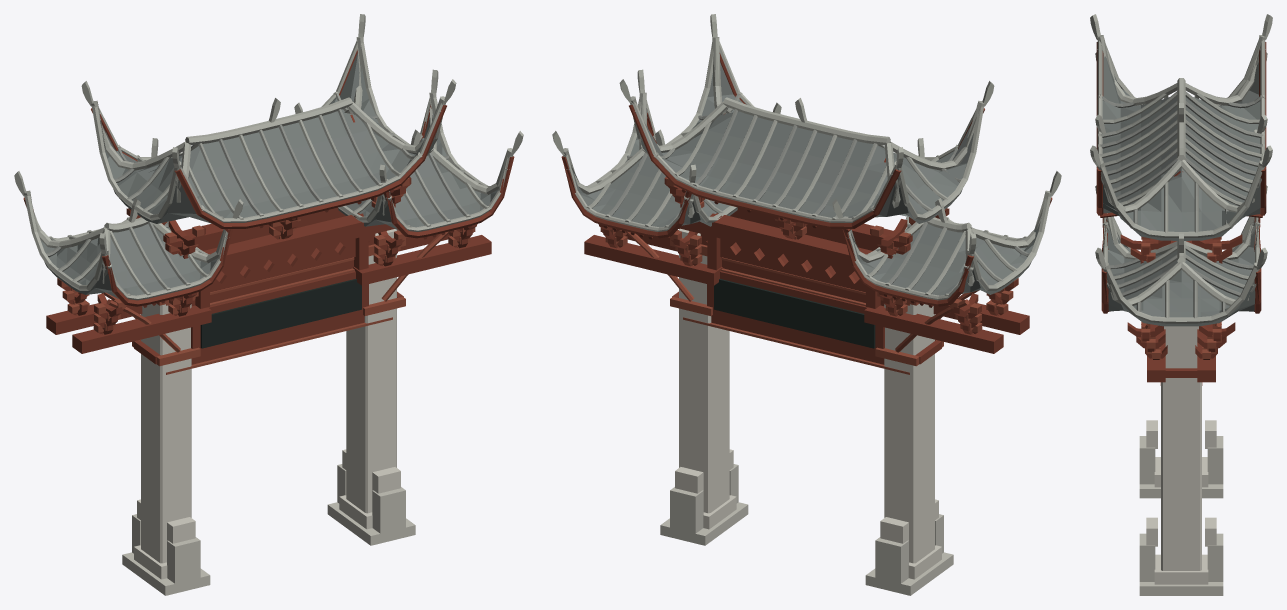
File: chongming-xuehai-paifang-lod.glb
3 views of the same model, side by side, from view 1: azimuth 30°, elevation 25°; view 2: azimuth 150°, elevation 25°; view 3: azimuth 270°, elevation 25° (orthographic). The views are drawn at different scales.
Size of the model in its own units: 9.09 by 9.6 by 3.49.
